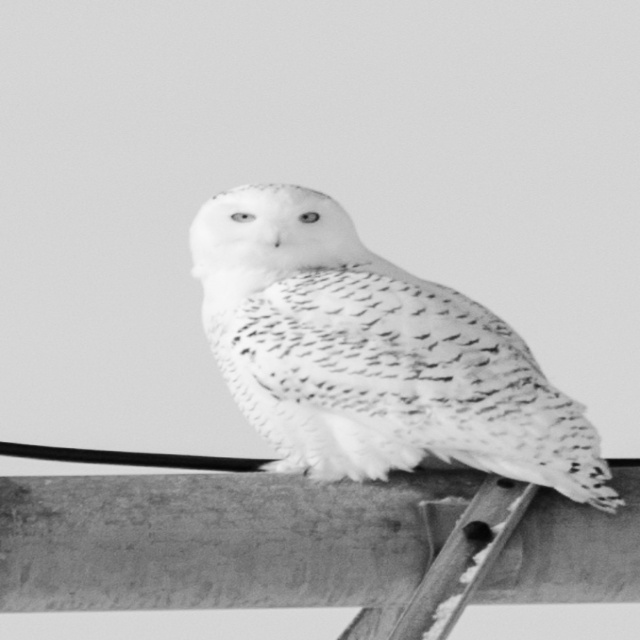Owl: (187, 177, 630, 518)
